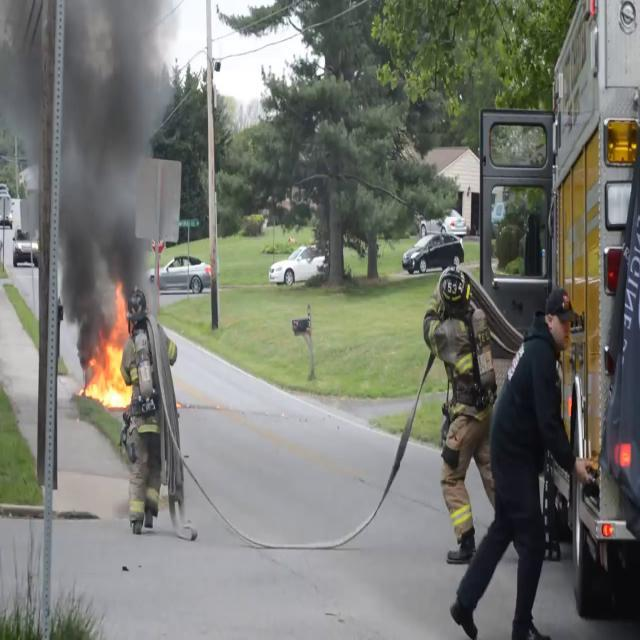Fire: (81, 285, 136, 413), (615, 434, 633, 474)
Smoke: (0, 0, 160, 326)
